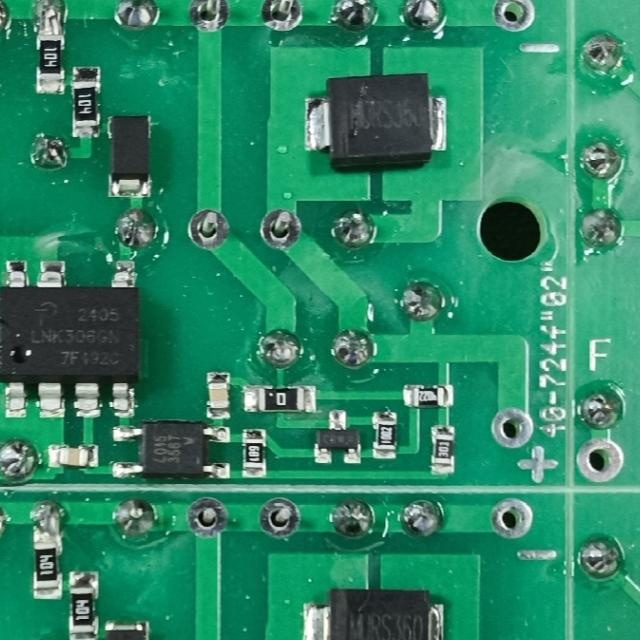chip-capacitor: (45, 443, 99, 468), (205, 369, 231, 419)
chip-resistor: (241, 382, 319, 414), (70, 63, 102, 139), (66, 570, 98, 640), (32, 532, 63, 600), (35, 30, 66, 95), (240, 425, 268, 480), (401, 382, 455, 409), (372, 408, 399, 461), (430, 422, 456, 475)
diode: (302, 71, 449, 171), (299, 587, 445, 640), (104, 112, 152, 199)
ic: (0, 257, 139, 419), (108, 420, 232, 481)
transistor: (311, 407, 361, 465)
